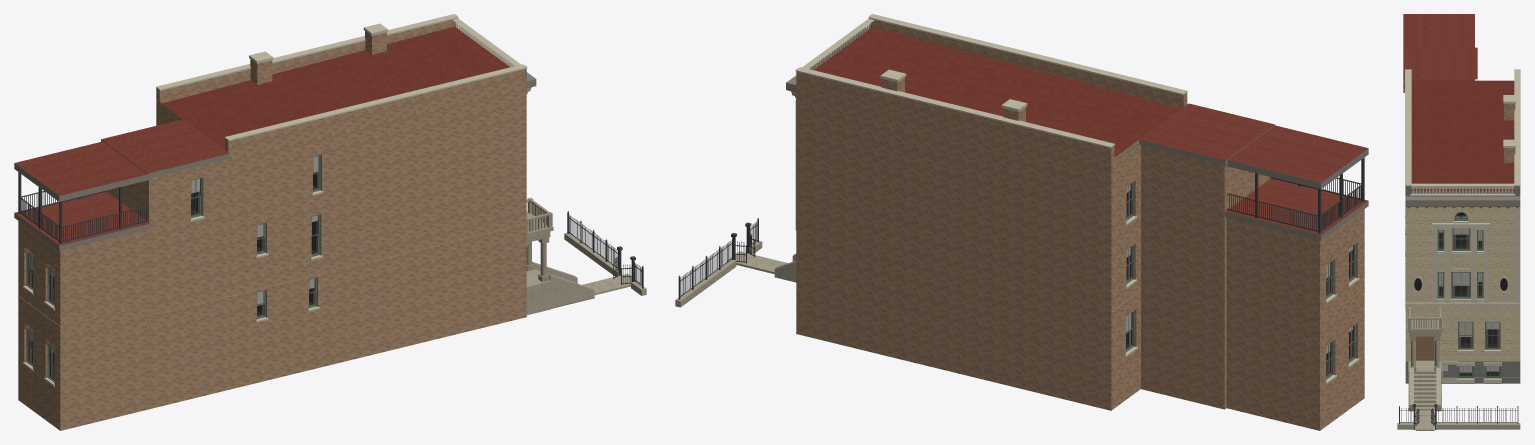
The model's file is reid_house_2013_prairie__as_mapped_1904.glb.
The picture shows the model from 3 angles, left to right: view 1: azimuth 30°, elevation 25°; view 2: azimuth 150°, elevation 25°; view 3: azimuth 270°, elevation 25°; orthographic projection. The views are drawn at different scales.
Parts seen in each view (by area): view 1: reid_house_2013_prairie__as_mapped_1904; view 2: reid_house_2013_prairie__as_mapped_1904; view 3: reid_house_2013_prairie__as_mapped_1904.
Boxes of the visible parts, bbox=[...] form: reid_house_2013_prairie__as_mapped_1904: bbox=[14, 14, 646, 430]; reid_house_2013_prairie__as_mapped_1904: bbox=[675, 14, 1368, 430]; reid_house_2013_prairie__as_mapped_1904: bbox=[1397, 14, 1520, 430].
Size of the model in its own units: 35.9 by 15.41 by 8.22.
Materials: 23 (13 with a texture image).
